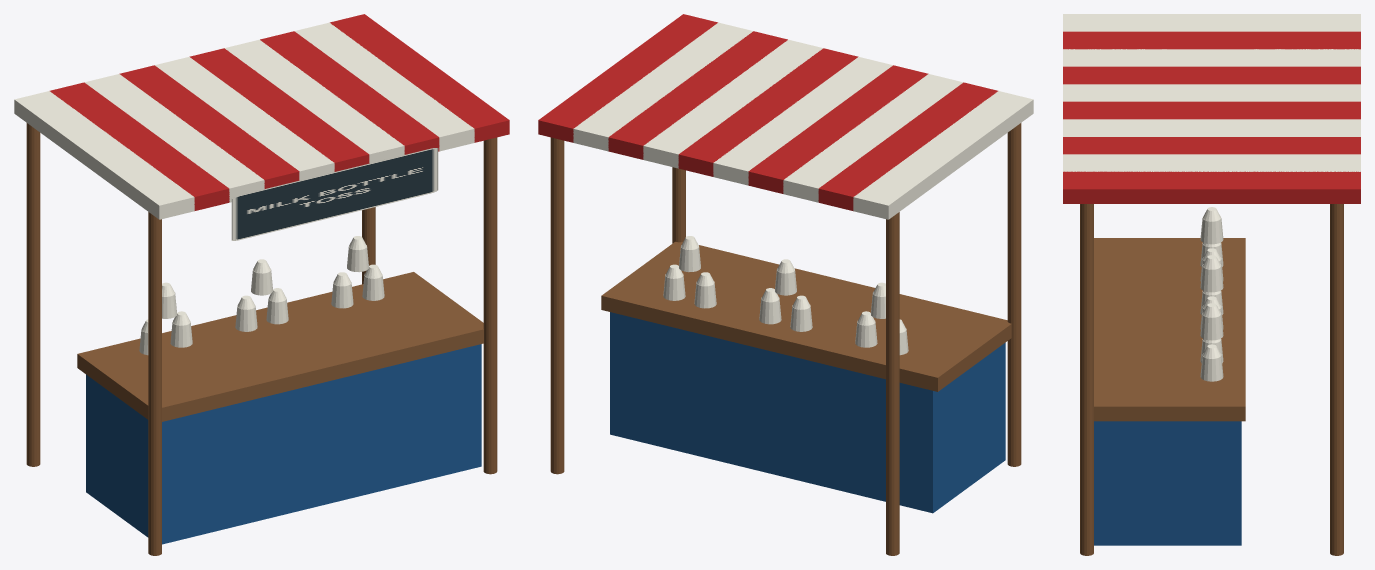
Rendered from scendance-plan-milk-bottle-toss.glb.
3 renders of one model, left to right at view 1: azimuth 30°, elevation 25°; view 2: azimuth 150°, elevation 25°; view 3: azimuth 270°, elevation 25°, orthographic. The views are drawn at different scales.
Bounding box in the file's own units: 2.59 × 2.53 × 1.87.
5 materials, 1 textured.
